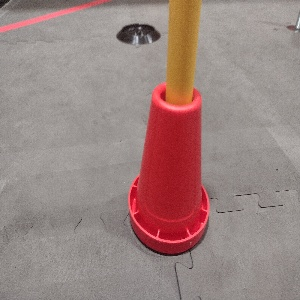Red_1: (125, 81, 211, 255)
